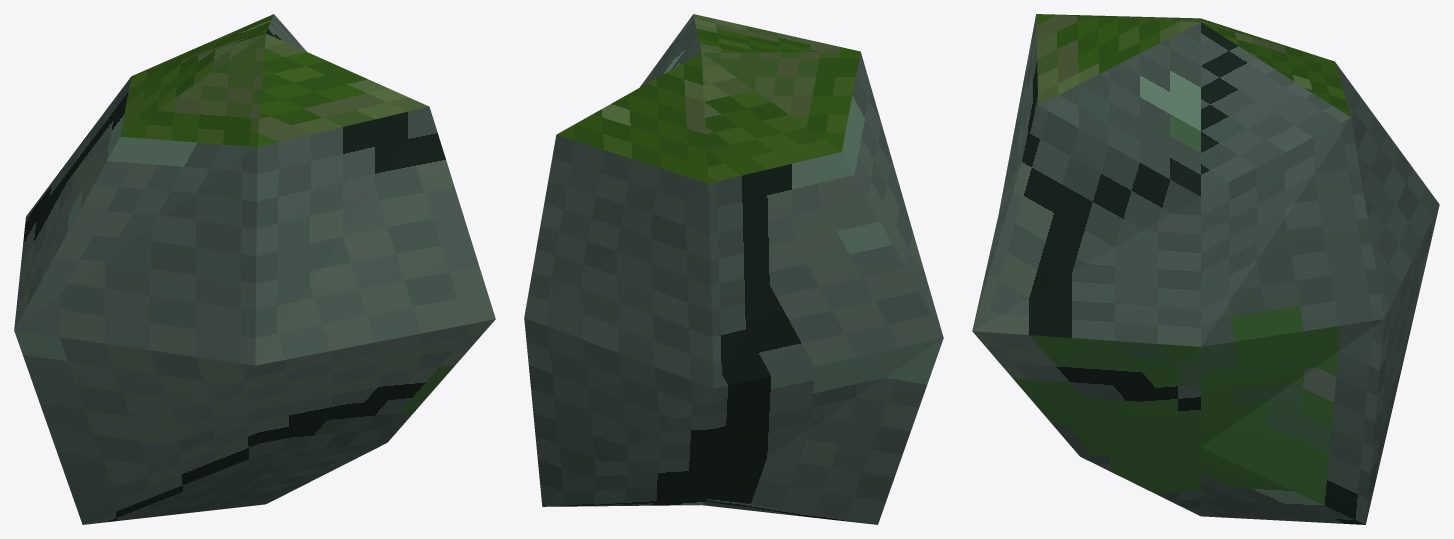
The model's file is wet_rock.glb.
3 views of the same model, side by side, from view 1: azimuth 30°, elevation 25°; view 2: azimuth 150°, elevation 25°; view 3: azimuth 270°, elevation 25° (orthographic). The views are drawn at different scales.
Visible parts, largest first — view 1: wet_rock; view 2: wet_rock; view 3: wet_rock.
Boxes of the visible parts, bbox=[...] form: wet_rock: bbox=[14, 14, 495, 524]; wet_rock: bbox=[524, 14, 943, 524]; wet_rock: bbox=[972, 14, 1439, 524].
Size of the model in its own units: 1.6 by 1.78 by 1.53.
Materials: 2 (2 with a texture image).
